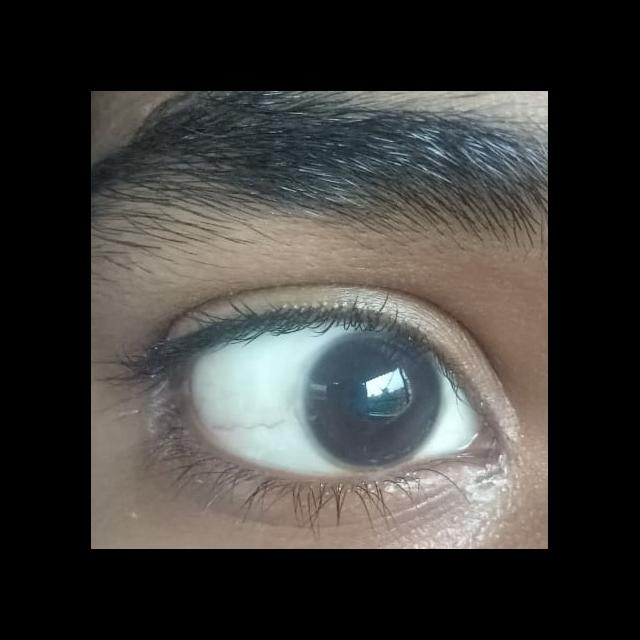eye: (184, 314, 485, 481)
iris: (305, 336, 444, 468)
